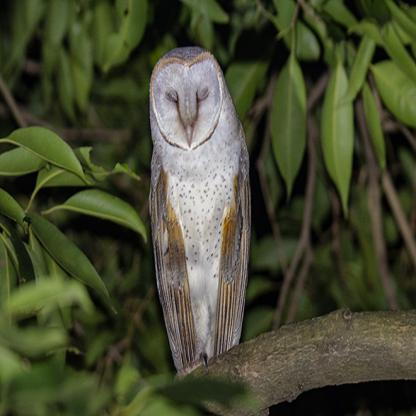Burung: (145, 47, 247, 354)
